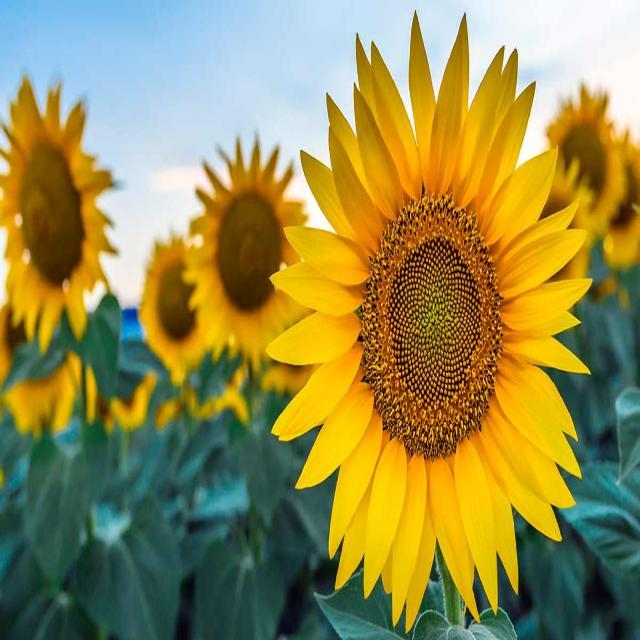sunflower: (264, 8, 593, 631), (0, 72, 118, 352), (182, 132, 310, 380), (0, 302, 98, 439), (544, 82, 624, 240), (137, 239, 206, 385), (538, 152, 597, 288), (602, 127, 639, 270), (262, 314, 310, 394), (200, 376, 249, 428), (106, 374, 148, 430), (85, 354, 115, 430), (160, 383, 195, 428)
